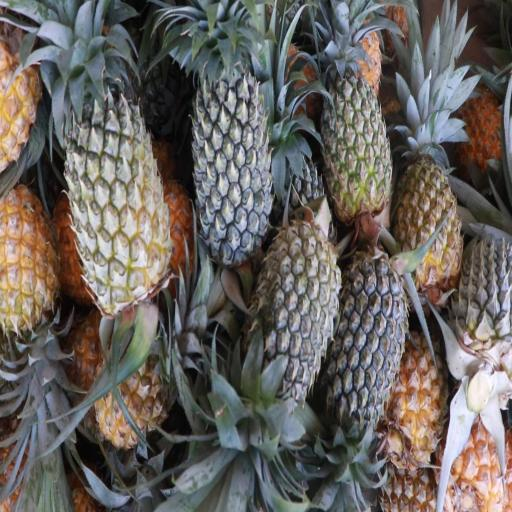------------------------------: (65, 64, 170, 298), (324, 48, 393, 224)
Pineapple - v8 v1: (94, 316, 204, 445), (396, 115, 467, 287), (0, 185, 60, 382), (384, 335, 458, 478)
